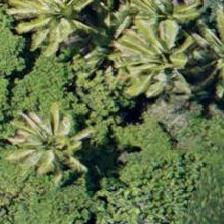Kelapa_Sawit: (114, 25, 204, 115), (9, 101, 99, 191), (10, 0, 100, 62), (118, 0, 208, 60)
